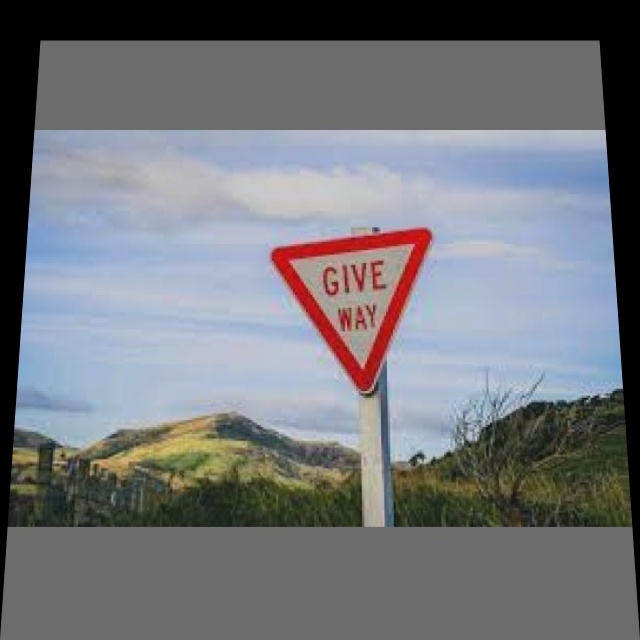Give_Way: (270, 232, 440, 389)
